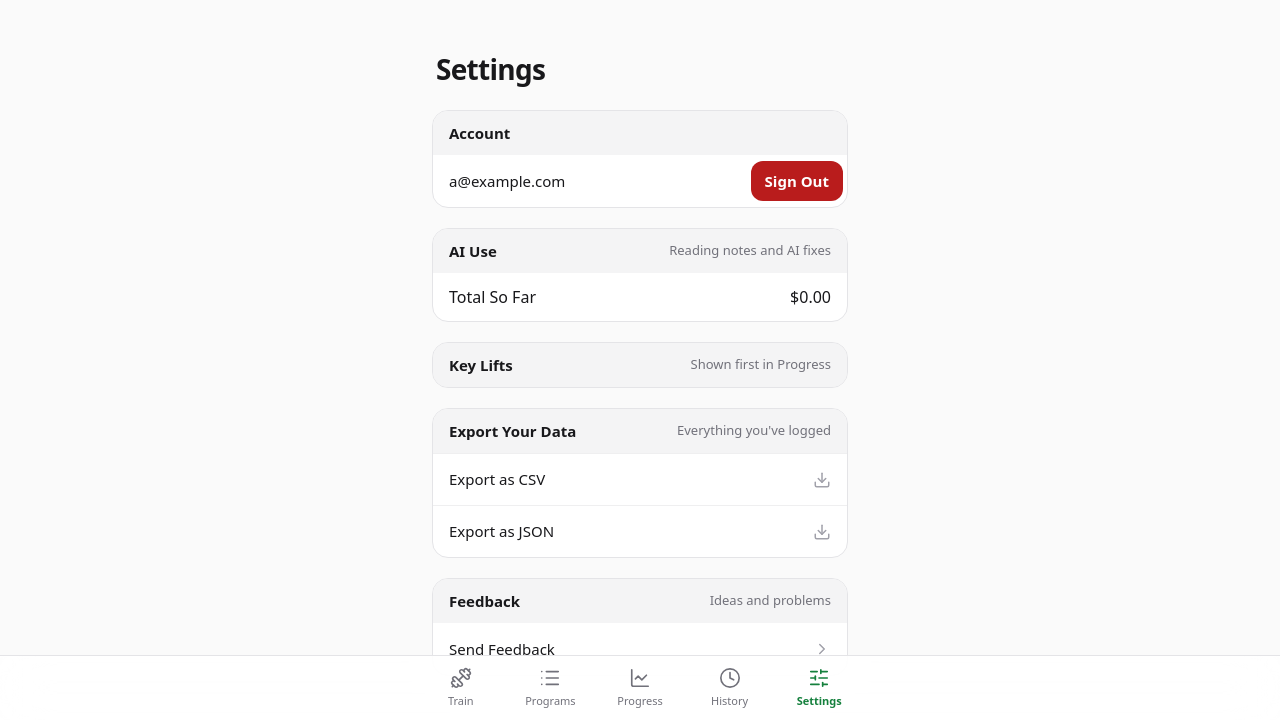
Settings › sends feedback: pick the kind, type it, Send, and it says thank you
This screenshot has width=1280, height=720.
Click the button "Send Feedback" at (502, 649), box [433,623,847,675]
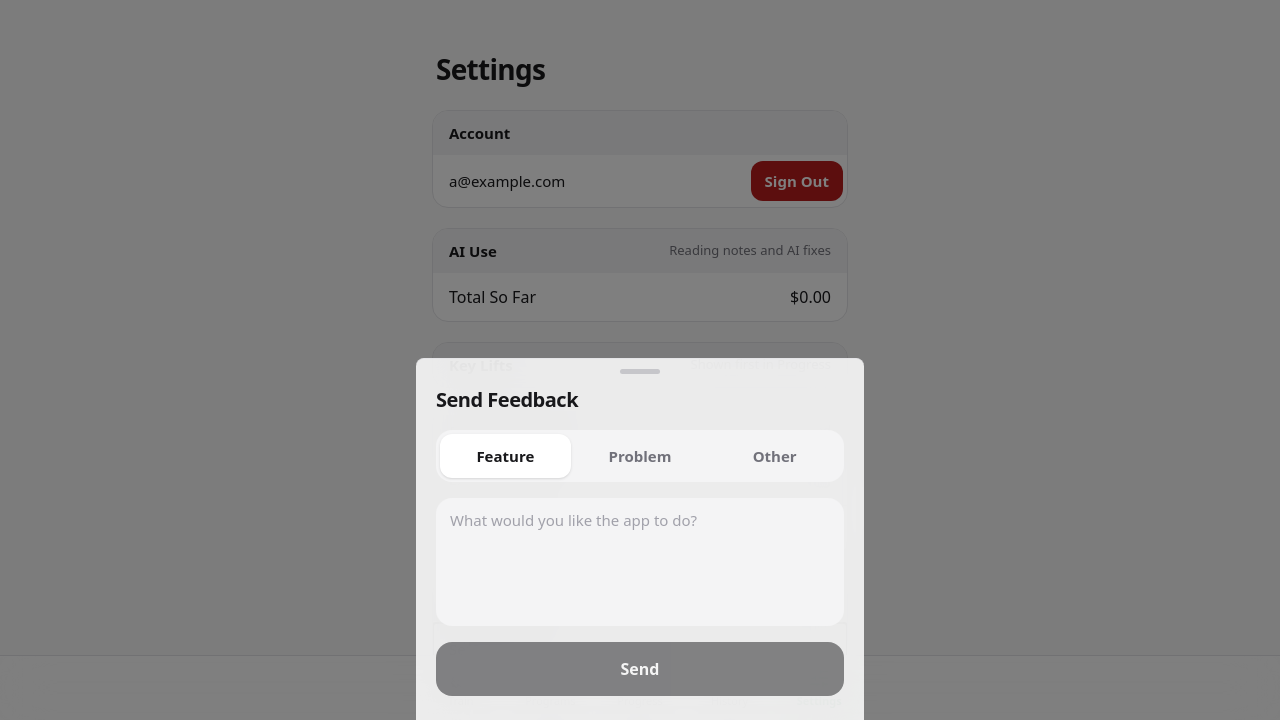
Now the button "Send" is disabled, box [436,642,844,696]
Click the button "Problem" at (640, 456), box [575,434,705,478]
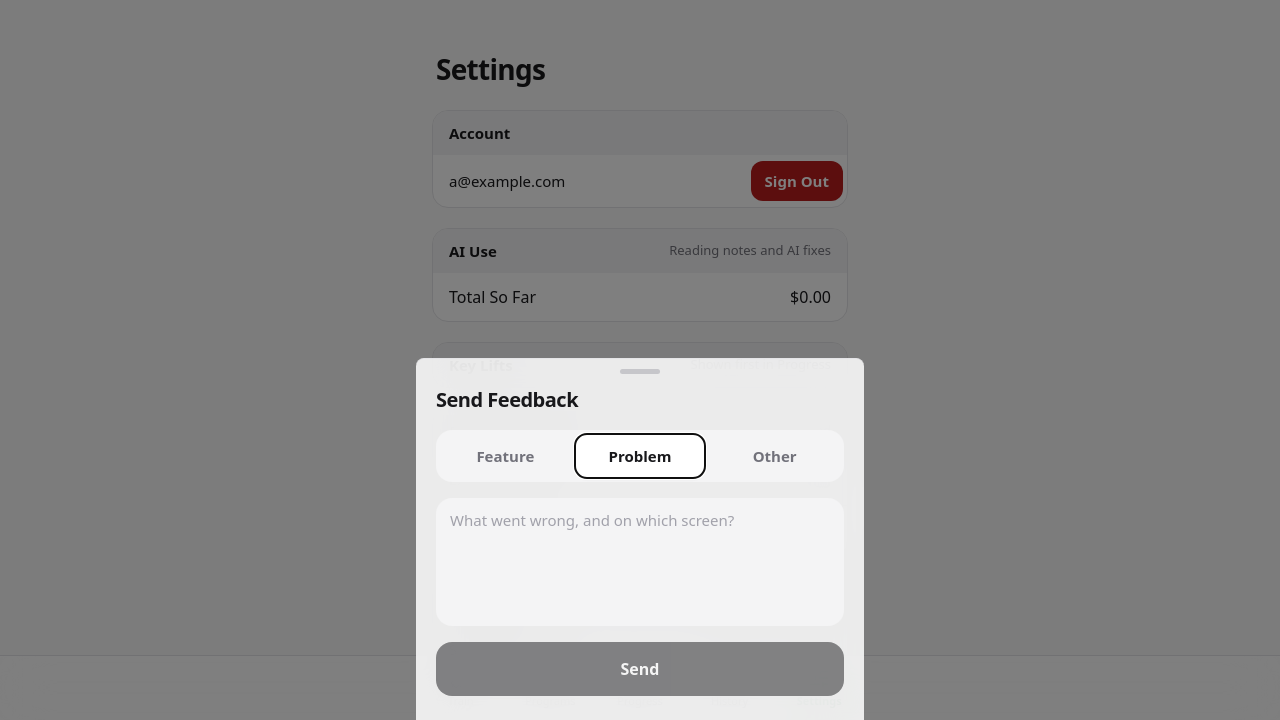
Type "The timer froze" into the text box named "Message" at (640, 562), box [436,498,844,626]
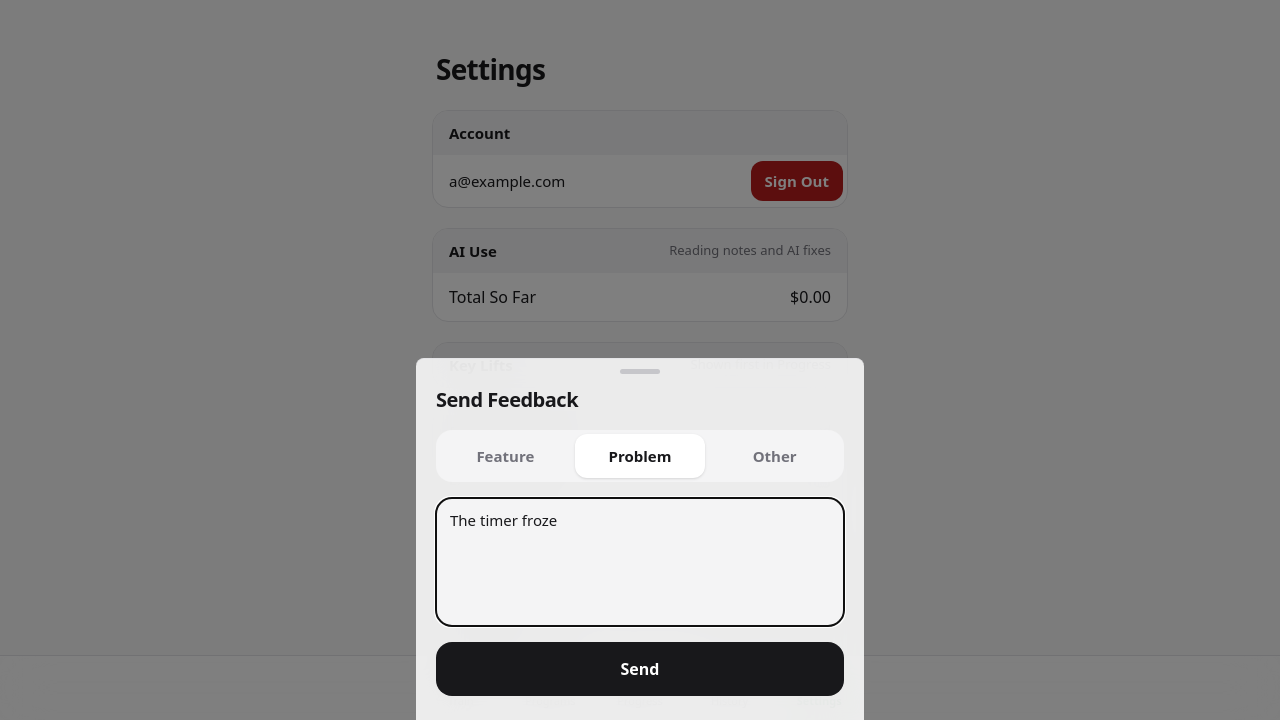
Click the button "Send" at (640, 669), box [436,642,844,696]
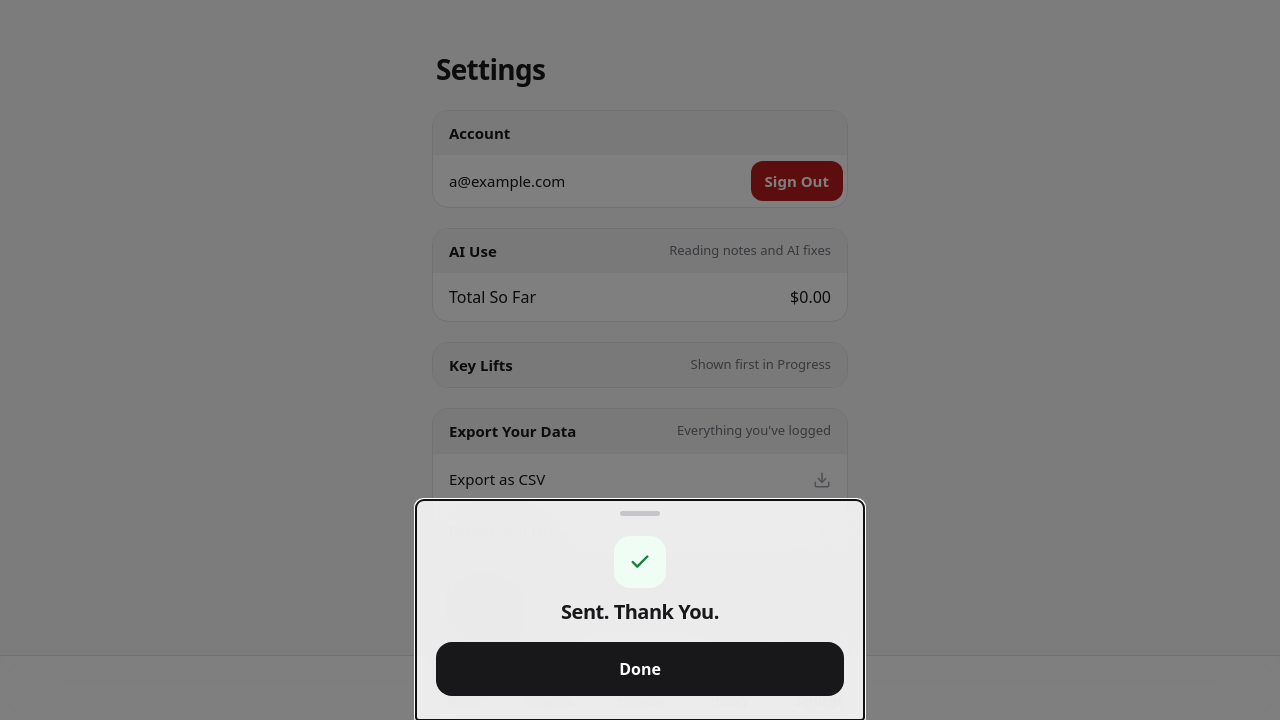
Now the text "Sent. Thank You." is shown, box [561,598,719,626]
